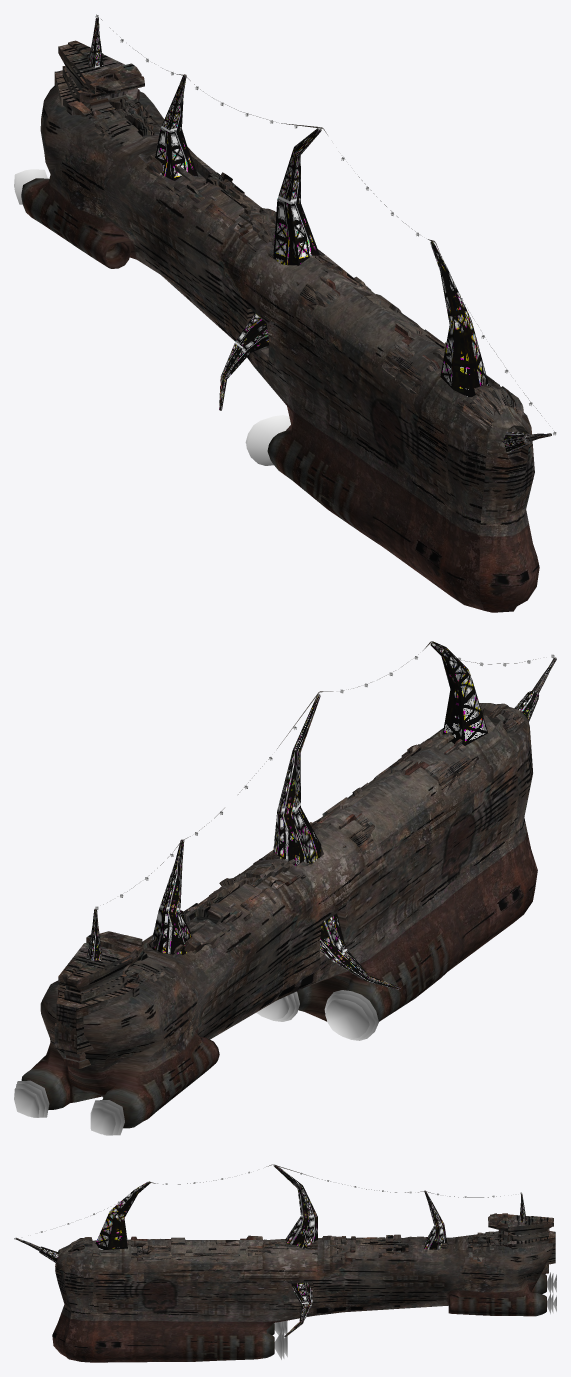
File: gleaner.obj
3 views of the same model, one above another, from view 1: azimuth 30°, elevation 25°; view 2: azimuth 150°, elevation 25°; view 3: azimuth 270°, elevation 25° (orthographic). The views are drawn at different scales.
Size of the model in its own units: 189 by 348 by 878.
